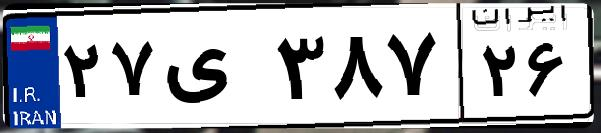2: (57, 26, 110, 100), (475, 38, 525, 113)
3: (270, 28, 330, 110)
6: (525, 38, 570, 115)
7: (385, 28, 445, 110), (110, 28, 158, 98)
8: (330, 28, 385, 110)
ی: (158, 20, 270, 120)
